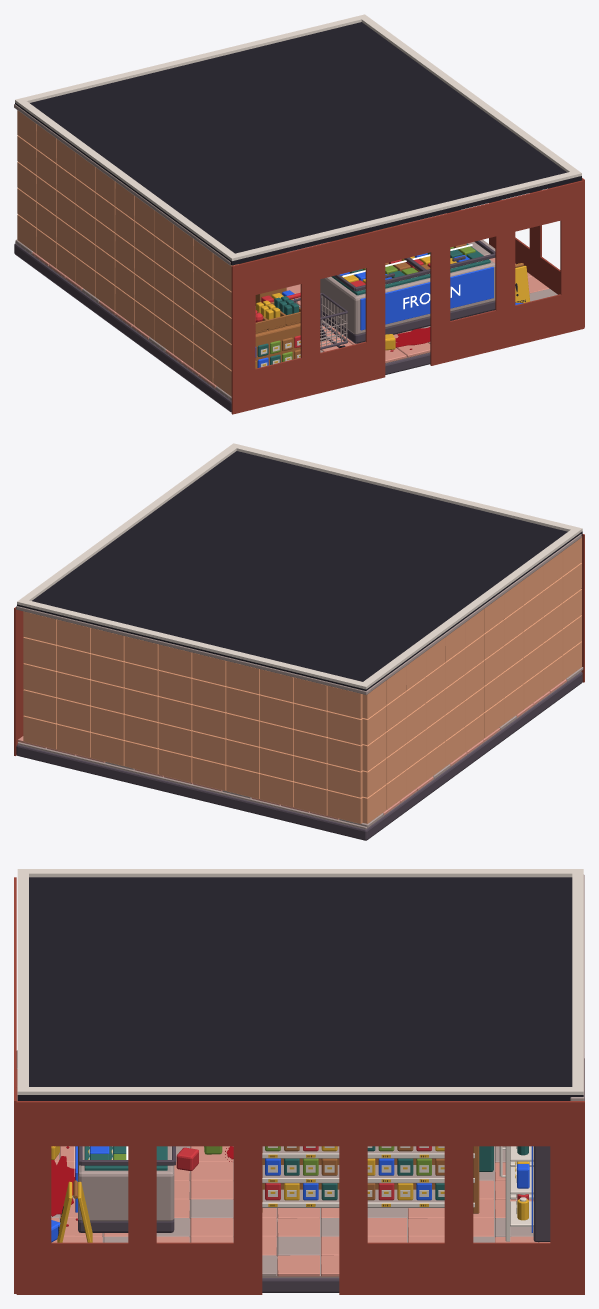
3 views of the same model, one above another, from view 1: azimuth 30°, elevation 25°; view 2: azimuth 150°, elevation 25°; view 3: azimuth 270°, elevation 25° (orthographic). The views are drawn at different scales.
Parts seen in each view (by area): view 1: roof_pal_uiDark, roof_pal_brick, static_pal_skinWarm, roof_pal_picketWhite, static_pal_sidewalk, static_pal_asphalt, static_pal_policeBlue, static_pal_woodWarm, static_pal_skinBlush, static_pal_backpackTeal, static_pal_schoolBusYellow, static_pal_blood (+1 smaller); view 2: static_pal_skinWarm, roof_pal_uiDark, roof_pal_picketWhite, static_pal_asphalt, static_pal_sidewalk, roof_pal_brick, static_pal_skinBlush; view 3: roof_pal_uiDark, roof_pal_brick, roof_pal_picketWhite, static_pal_skinBlush, static_pal_sidewalk, static_pal_picketWhite, static_pal_asphalt, static_pal_schoolBusYellow, static_pal_backpackTeal, static_pal_policeBlue, static_pal_woodWarm, static_pal_blood (+4 smaller).
Boxes of the visible parts, box(x1,y1,x2,y2) form: roof_pal_uiDark: box(15, 22, 581, 265); roof_pal_brick: box(231, 178, 584, 414); static_pal_skinWarm: box(17, 110, 238, 396); roof_pal_picketWhite: box(15, 14, 581, 260); static_pal_sidewalk: box(14, 104, 557, 400); static_pal_asphalt: box(14, 243, 495, 412); static_pal_policeBlue: box(255, 253, 523, 367); static_pal_woodWarm: box(240, 224, 523, 368); static_pal_skinBlush: box(32, 213, 548, 388); static_pal_backpackTeal: box(257, 243, 490, 364); static_pal_schoolBusYellow: box(255, 256, 530, 368); static_pal_blood: box(297, 301, 430, 351); static_pal_skinWarm: box(23, 537, 581, 823); roof_pal_uiDark: box(17, 451, 582, 690); roof_pal_picketWhite: box(17, 443, 582, 689); static_pal_asphalt: box(16, 672, 582, 840); static_pal_sidewalk: box(16, 534, 583, 829); roof_pal_brick: box(14, 534, 584, 755); static_pal_skinBlush: box(17, 679, 566, 819); roof_pal_uiDark: box(17, 877, 583, 1100); roof_pal_brick: box(14, 877, 584, 1294); roof_pal_picketWhite: box(17, 869, 583, 1094); static_pal_skinBlush: box(16, 1069, 550, 1276); static_pal_sidewalk: box(16, 874, 584, 1277); static_pal_picketWhite: box(89, 1146, 533, 1226); static_pal_asphalt: box(78, 1058, 584, 1292); static_pal_schoolBusYellow: box(51, 1146, 529, 1242); static_pal_backpackTeal: box(84, 1146, 528, 1200); static_pal_policeBlue: box(51, 1146, 532, 1242); static_pal_woodWarm: box(73, 1146, 479, 1213); static_pal_blood: box(51, 1146, 233, 1226).
Size of the model in its own units: 8.44 by 3.53 by 9.06.
